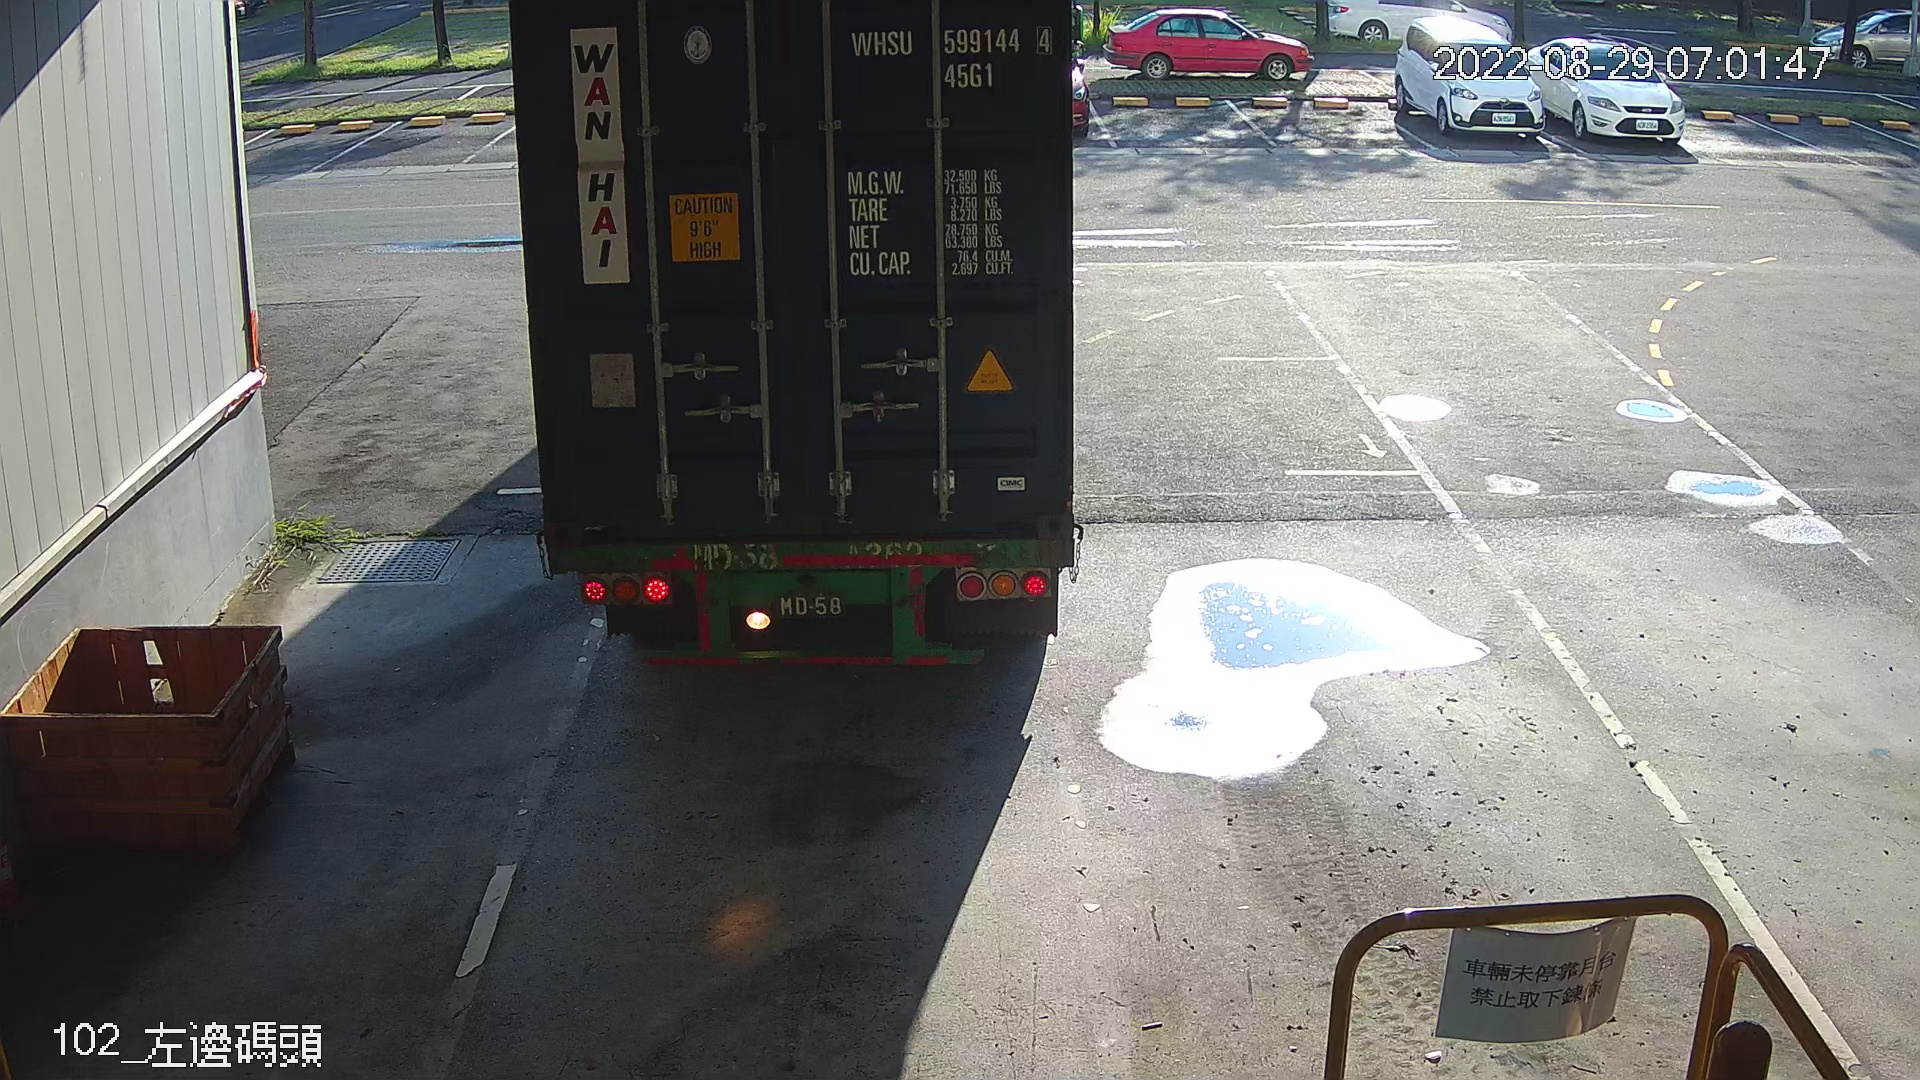container: (843, 17, 1060, 95)
